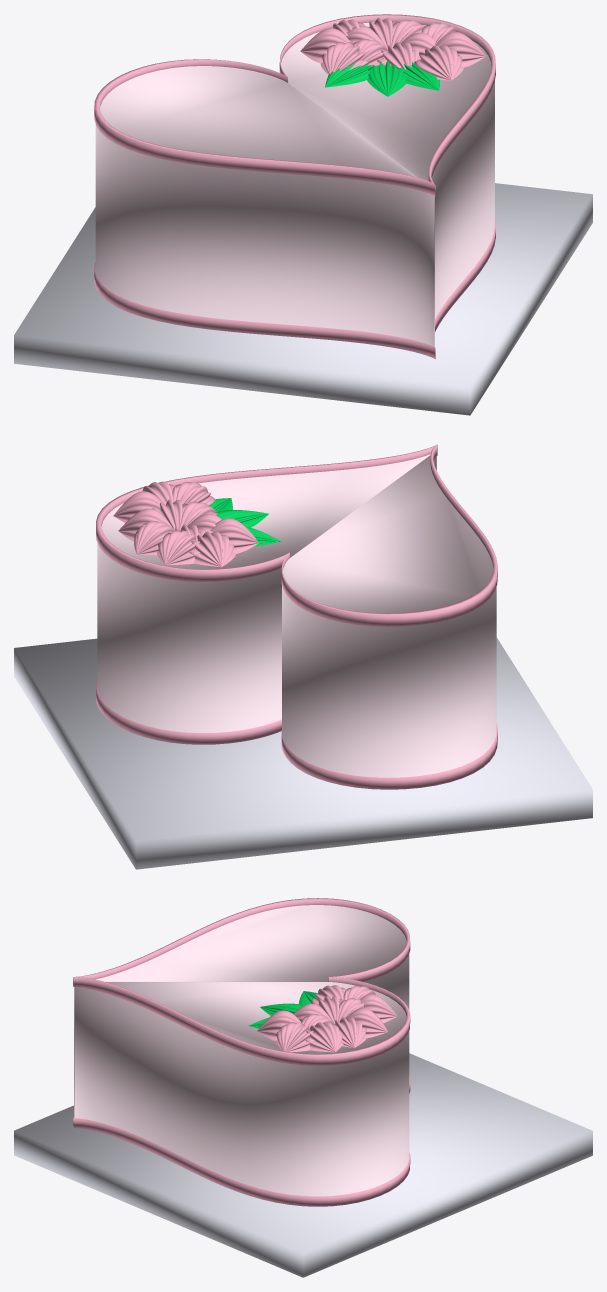
Rendered from heart_strawberry_style2.glb.
3 renders of one model, top to bottom at view 1: azimuth 30°, elevation 25°; view 2: azimuth 150°, elevation 25°; view 3: azimuth 270°, elevation 25°, orthographic. The views are drawn at different scales.
Visible parts, largest first — view 1: HeartCake, IcingStand, IcingRing, IcingRing.001, leaf.001, design10, design11, design7, design12, design3, design6, design5; view 2: HeartCake, IcingStand, IcingRing, IcingRing.001, design12, design9, leaf.001, design4, design11, design8, design10, design5; view 3: HeartCake, IcingStand, IcingRing, IcingRing.001, design7, design8, design5, design4, design10, leaf.001, design9.
Part boxes in pixels (<box>): HeartCake: <box>95,22,494,347</box>; IcingStand: <box>14,183,592,415</box>; IcingRing: <box>94,14,495,196</box>; IcingRing.001: <box>94,219,495,359</box>; leaf.001: <box>325,60,439,96</box>; design10: <box>414,45,463,80</box>; design11: <box>320,42,368,74</box>; design7: <box>435,32,485,67</box>; design12: <box>300,28,350,63</box>; design3: <box>377,42,420,69</box>; design6: <box>353,39,388,68</box>; design5: <box>391,19,424,47</box>; HeartCake: <box>97,454,496,777</box>; IcingStand: <box>14,637,592,869</box>; IcingRing: <box>96,444,497,626</box>; IcingRing.001: <box>96,680,497,789</box>; design12: <box>189,531,235,567</box>; design9: <box>157,530,200,564</box>; leaf.001: <box>209,498,281,546</box>; design4: <box>134,521,174,554</box>; design11: <box>210,518,258,553</box>; design8: <box>113,491,165,522</box>; design10: <box>172,481,214,505</box>; design5: <box>118,508,171,541</box>; HeartCake: <box>74,905,409,1196</box>; IcingStand: <box>14,1053,592,1277</box>; IcingRing: <box>73,898,410,1065</box>; IcingRing.001: <box>73,1075,410,1206</box>; design7: <box>275,1022,314,1052</box>; design8: <box>305,1022,343,1052</box>; design5: <box>335,1017,366,1047</box>; design4: <box>345,1008,387,1038</box>; design10: <box>257,1010,300,1040</box>; leaf.001: <box>248,991,318,1028</box>; design9: <box>358,994,397,1023</box>.
Size of the model in its own units: 4.24 by 1.58 by 4.24.
